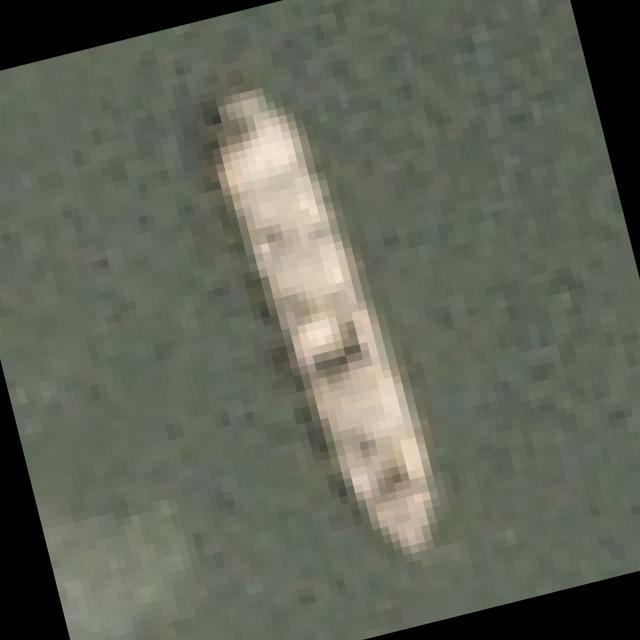ship: (137, 23, 536, 618)
